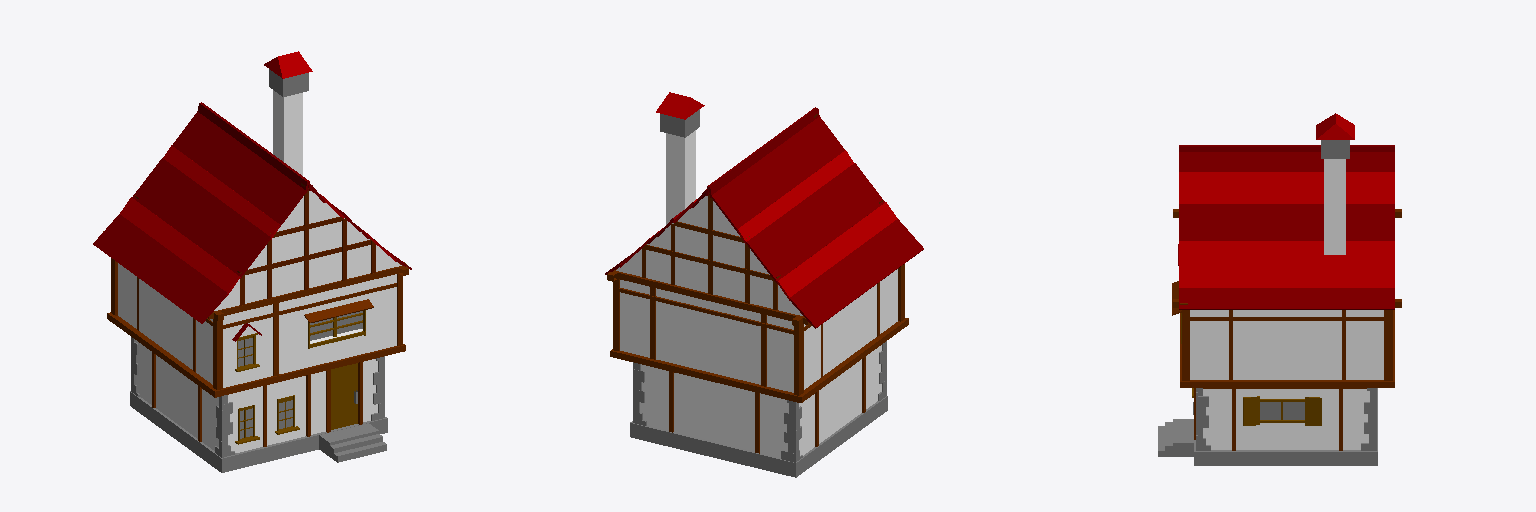
Rendered from house_middle.obj.
3 renders of one model, left to right at view 1: azimuth 30°, elevation 25°; view 2: azimuth 150°, elevation 25°; view 3: azimuth 270°, elevation 25°, orthographic.
Parts seen in each view (by area): view 1: House_001:body House_001:pCube70, House_001:body House_001:pCube1, House_001:body House_001:pPrism1, House_001:group17 House_001:pCube165, House_001:group17 House_001:pCube163, House_001:group17 House_001:pCube176, House_001:pCube26 House_001:body, House_001:group17 House_001:pCube175, House_001:group17 House_001:pCube164, House_001:pCube194, House_001:pCube116, House_001:pCube125 (+11 smaller); view 2: House_001:body House_001:pCube70, House_001:body House_001:pCube1, House_001:body House_001:pPrism1, House_001:group17 House_001:pCube165, House_001:group17 House_001:pCube163, House_001:group17 House_001:pCube176, House_001:pCube26 House_001:body, House_001:group17 House_001:pCube175, House_001:pCube194, House_001:group17 House_001:pCube164, House_001:pCube119, House_001:pCube147 (+7 smaller); view 3: House_001:body House_001:pCube70, House_001:group18 House_001:pCube166, House_001:body House_001:pCube1, House_001:group18 House_001:pCube162, House_001:group18 House_001:pCube169, House_001:group18 House_001:pCube171, House_001:group18 House_001:pCube160, House_001:pCube26 House_001:body, House_001:group18 House_001:pCube167, House_001:pCube194, House_001:pCube120, House_001:pCube178 House_001:group18 (+6 smaller).
Boxes of the visible parts, <box> form: House_001:body House_001:pCube70: <box>118,263,396,387</box>; House_001:body House_001:pCube1: <box>136,340,377,452</box>; House_001:body House_001:pPrism1: <box>214,191,401,310</box>; House_001:group17 House_001:pCube165: <box>132,158,270,278</box>; House_001:group17 House_001:pCube163: <box>172,111,308,227</box>; House_001:group17 House_001:pCube176: <box>93,214,227,323</box>; House_001:pCube26 House_001:body: <box>130,391,387,472</box>; House_001:group17 House_001:pCube175: <box>120,197,240,295</box>; House_001:group17 House_001:pCube164: <box>163,145,280,239</box>; House_001:pCube194: <box>273,90,302,175</box>; House_001:pCube116: <box>212,344,405,395</box>; House_001:pCube125: <box>208,262,407,319</box>; House_001:body House_001:pCube70: <box>620,269,897,392</box>; House_001:body House_001:pCube1: <box>640,345,881,457</box>; House_001:body House_001:pPrism1: <box>616,196,802,315</box>; House_001:group17 House_001:pCube165: <box>746,163,884,283</box>; House_001:group17 House_001:pCube163: <box>709,116,844,232</box>; House_001:group17 House_001:pCube176: <box>790,219,923,328</box>; House_001:pCube26 House_001:body: <box>630,396,887,477</box>; House_001:group17 House_001:pCube175: <box>777,202,897,300</box>; House_001:pCube194: <box>666,130,695,224</box>; House_001:group17 House_001:pCube164: <box>737,150,853,244</box>; House_001:pCube119: <box>610,349,804,402</box>; House_001:pCube147: <box>612,268,809,324</box>; House_001:body House_001:pCube70: <box>1190,310,1383,379</box>; House_001:group18 House_001:pCube166: <box>1179,241,1394,287</box>; House_001:body House_001:pCube1: <box>1203,389,1369,449</box>; House_001:group18 House_001:pCube162: <box>1179,172,1394,203</box>; House_001:group18 House_001:pCube169: <box>1179,204,1394,229</box>; House_001:group18 House_001:pCube171: <box>1179,288,1394,309</box>; House_001:group18 House_001:pCube160: <box>1179,152,1394,171</box>; House_001:pCube26 House_001:body: <box>1194,388,1377,465</box>; House_001:group18 House_001:pCube167: <box>1179,230,1394,240</box>; House_001:pCube194: <box>1324,159,1345,254</box>; House_001:pCube120: <box>1184,380,1390,387</box>; House_001:pCube178 House_001:group18: <box>1179,146,1394,151</box>.
Bounding box in the file's own units: 5.37 × 8.09 × 5.38.